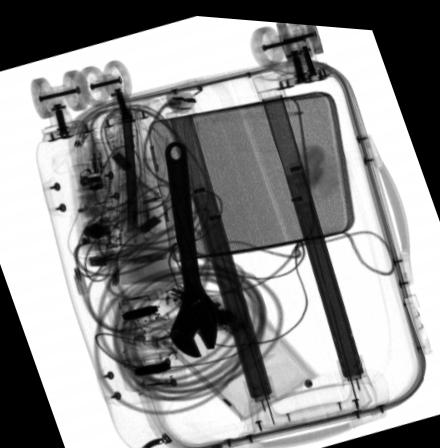Wrench: (164, 136, 219, 354)
